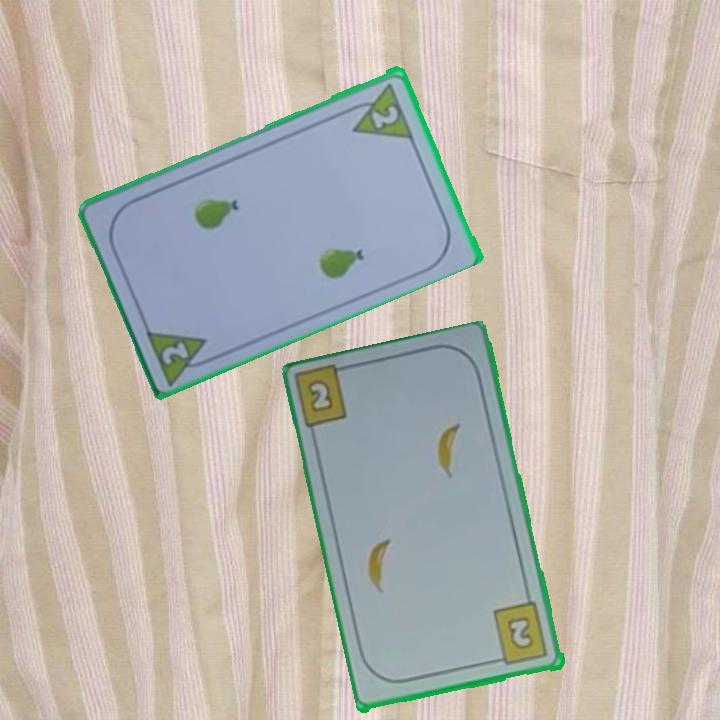2b: (490, 599, 551, 668), (304, 376, 337, 416)
2p: (368, 101, 402, 131), (158, 337, 192, 367)
